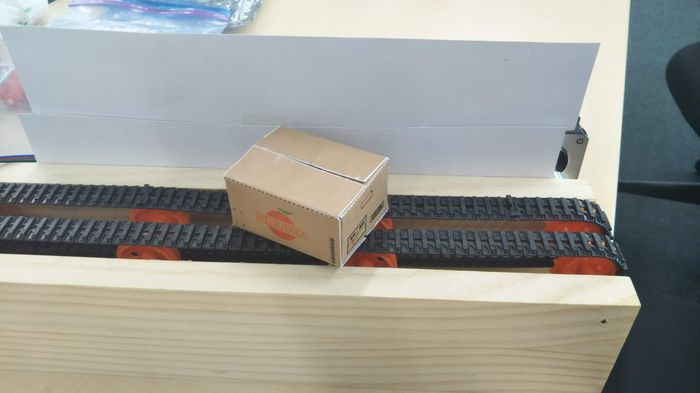box1: (219, 120, 387, 261)
